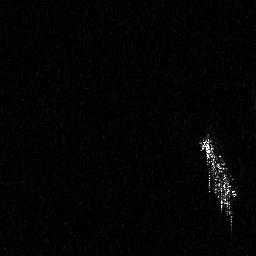ship: (198, 128, 240, 238)
